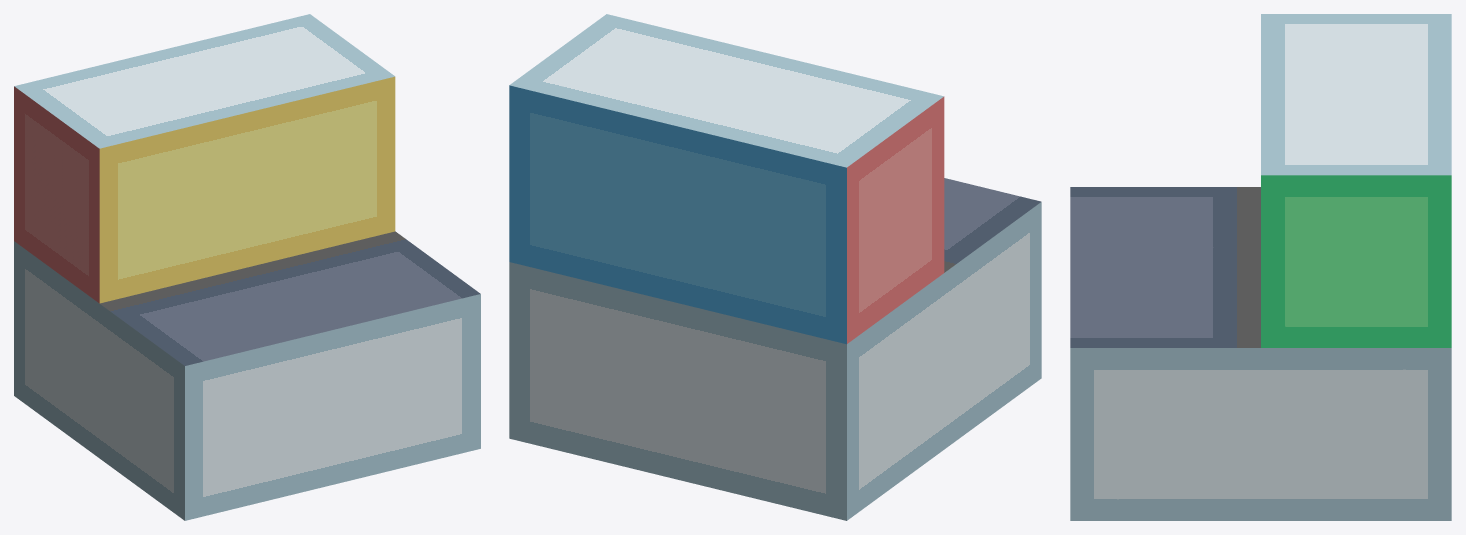
File: TestBlock.gltf
3 renders of one model, left to right at view 1: azimuth 30°, elevation 25°; view 2: azimuth 150°, elevation 25°; view 3: azimuth 270°, elevation 25°, orthographic. The views are drawn at different scales.
Visible parts, largest first — view 1: mesh (×2); view 2: mesh (×2); view 3: mesh (×2).
Part boxes in pixels (<box>): mesh (×2): <box>14,14,480,520</box>; mesh (×2): <box>509,14,1041,520</box>; mesh (×2): <box>1070,14,1451,520</box>.
Size of the model in its own units: 1 by 1 by 1.
Materials: 1 (1 with a texture image).
